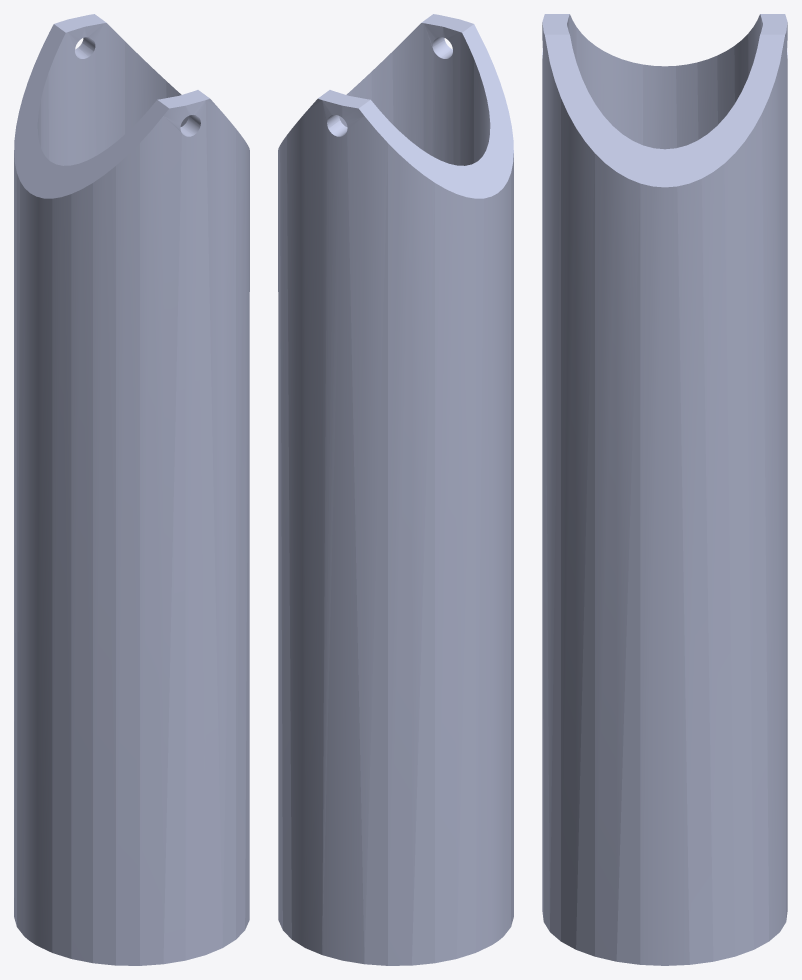
The model's file is prox_link.obj.
3 renders of one model, left to right at view 1: azimuth 30°, elevation 25°; view 2: azimuth 150°, elevation 25°; view 3: azimuth 270°, elevation 25°, orthographic. The views are drawn at different scales.
Visible parts, largest first — view 1: prox_link_3_DOF_ARM_SEGMENT-1; view 2: prox_link_3_DOF_ARM_SEGMENT-1; view 3: prox_link_3_DOF_ARM_SEGMENT-1.
Part boxes in pixels (bbox=[...]): prox_link_3_DOF_ARM_SEGMENT-1: bbox=[14, 14, 249, 965]; prox_link_3_DOF_ARM_SEGMENT-1: bbox=[278, 14, 513, 965]; prox_link_3_DOF_ARM_SEGMENT-1: bbox=[542, 14, 787, 965].
Bounding box in the file's own units: 0.05 × 0.2 × 0.05.
